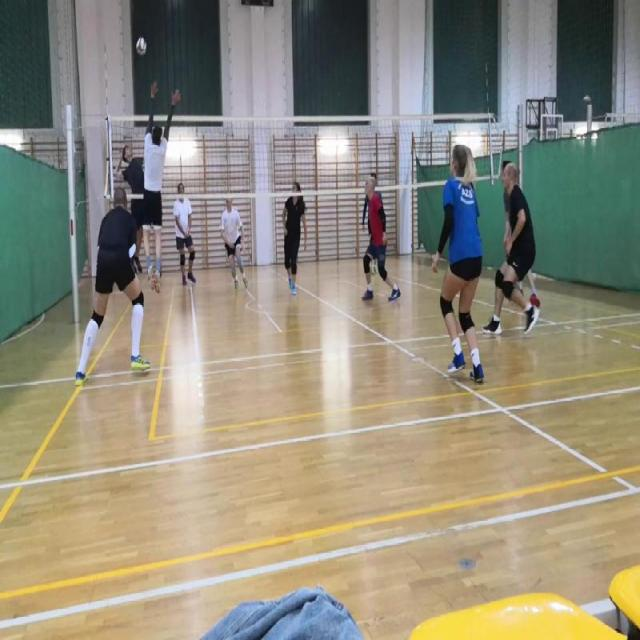volleyball: (136, 38, 146, 55)
